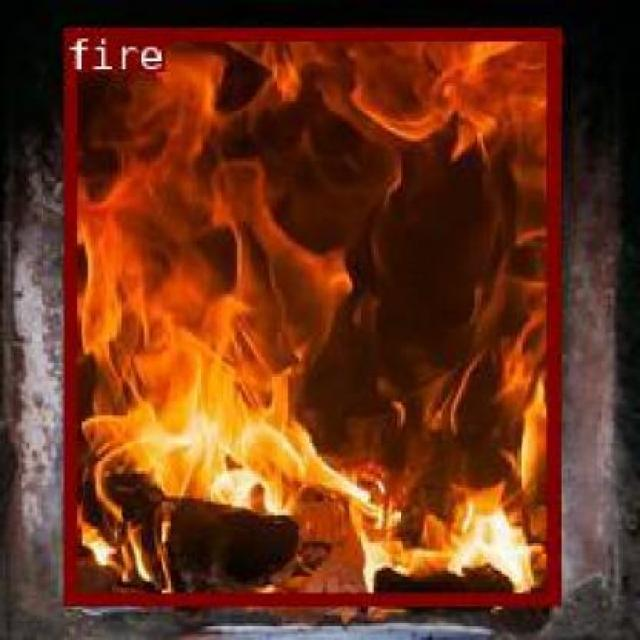Fire: (64, 25, 556, 602)
